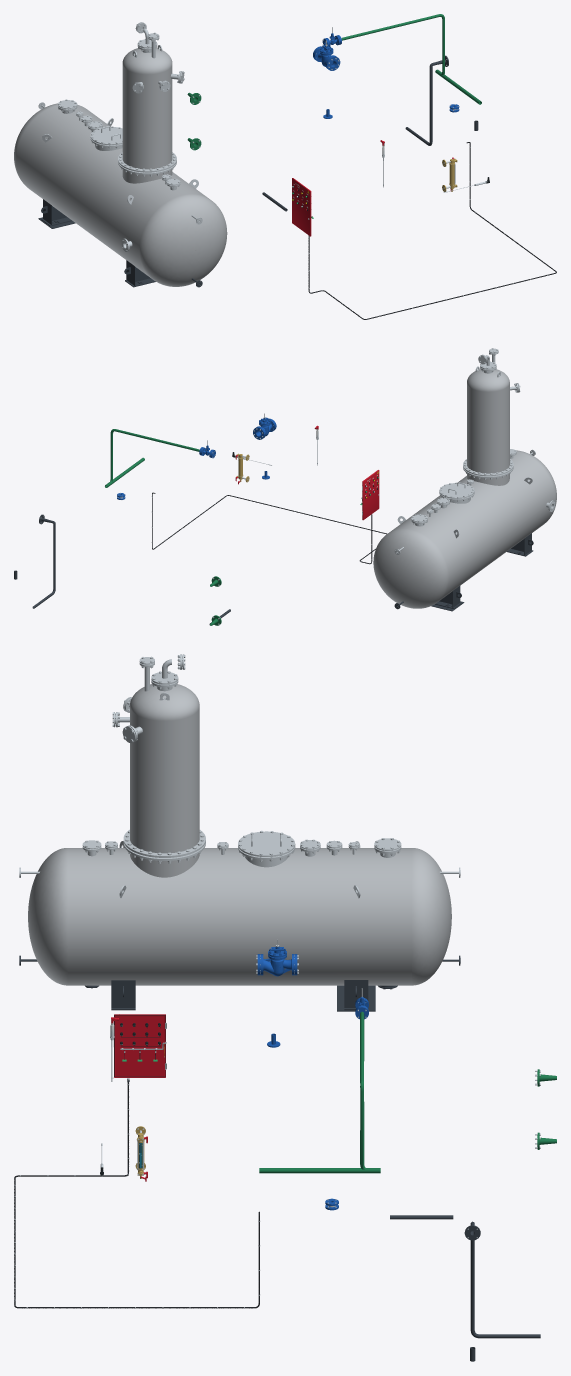
The model's file is s4000-1-BPGE4b4K.glb.
3 views of the same model, one above another, from view 1: azimuth 30°, elevation 25°; view 2: azimuth 150°, elevation 25°; view 3: azimuth 270°, elevation 25° (orthographic). The views are drawn at different scales.
Visible parts, largest first — view 1: deaerator CAD solid 56, deaerator CAD solid 257, cabinet_door / cabinet_door_5.npz, wiring_pump_1 / black, to_direct / green, bottom_to_bdv / dark, deaerator CAD solid 408; view 2: deaerator CAD solid 56, deaerator CAD solid 257, cabinet_door / cabinet_door_5.npz, wiring_pump_1 / black, to_direct / green, deaerator CAD solid 408, bottom_to_bdv / dark; view 3: deaerator CAD solid 56, deaerator CAD solid 257, cabinet_door / cabinet_door_5.npz, wiring_pump_1 / black, deaerator CAD solid 408, bottom_to_bdv / dark.
Boxes of the visible parts, x1,y1,x2,y2 form: deaerator CAD solid 56: (14, 103, 227, 286); deaerator CAD solid 257: (122, 48, 172, 169); cabinet_door / cabinet_door_5.npz: (292, 178, 311, 236); wiring_pump_1 / black: (308, 142, 556, 319); to_direct / green: (341, 14, 444, 74); bottom_to_bdv / dark: (405, 55, 448, 145); deaerator CAD solid 408: (90, 127, 122, 145); deaerator CAD solid 56: (373, 450, 556, 608); deaerator CAD solid 257: (467, 369, 509, 473); cabinet_door / cabinet_door_5.npz: (362, 470, 379, 520); wiring_pump_1 / black: (152, 492, 386, 564); to_direct / green: (105, 429, 199, 487); deaerator CAD solid 408: (439, 483, 474, 498); bottom_to_bdv / dark: (32, 514, 55, 608); deaerator CAD solid 56: (28, 848, 451, 985); deaerator CAD solid 257: (130, 684, 199, 853); cabinet_door / cabinet_door_5.npz: (114, 1014, 166, 1077); wiring_pump_1 / black: (14, 1082, 259, 1308); deaerator CAD solid 408: (238, 831, 295, 856); bottom_to_bdv / dark: (464, 1221, 540, 1338).
Size of the model in its own units: 8.14 by 4.72 by 5.6.
